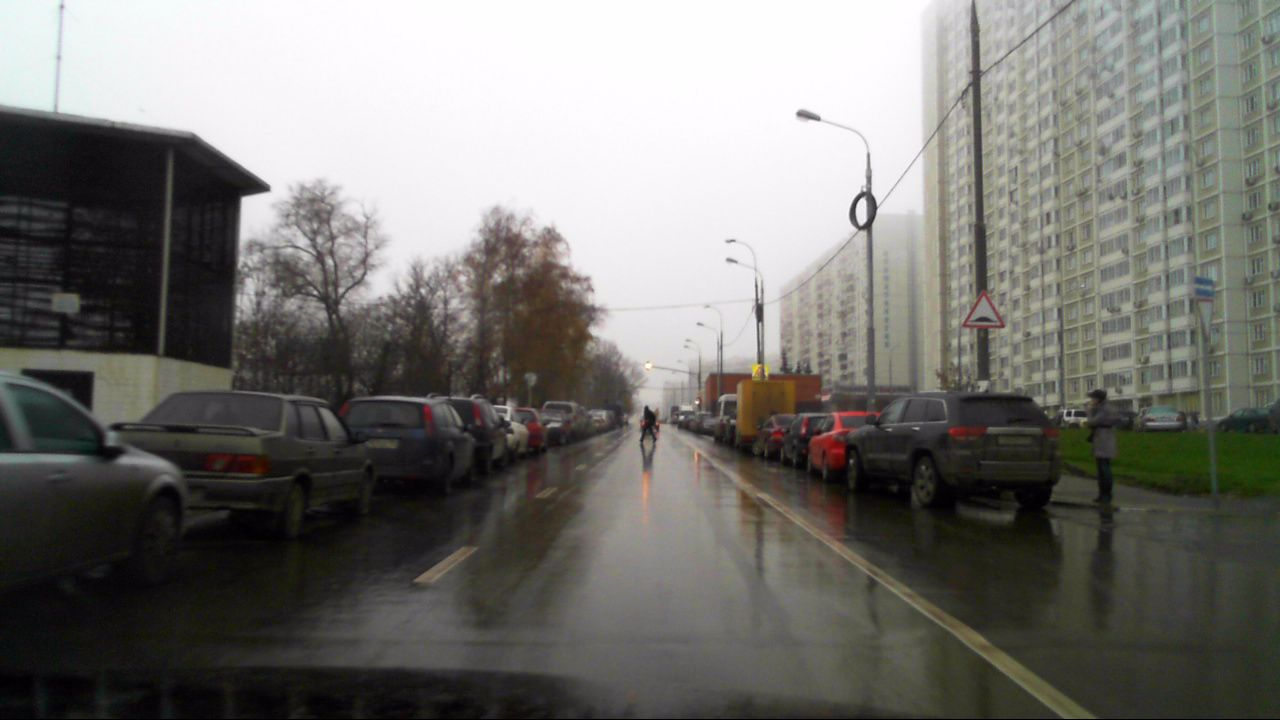One-Way Traffic: (1195, 277, 1215, 297)
